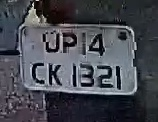1: (67, 62, 78, 89), (113, 64, 124, 91), (79, 32, 88, 56)
2: (95, 63, 115, 91)
3: (78, 62, 95, 90)
4: (88, 33, 106, 59)
C: (30, 60, 46, 87)
K: (47, 60, 63, 88)
P: (60, 32, 79, 56)
U: (40, 30, 62, 54)
